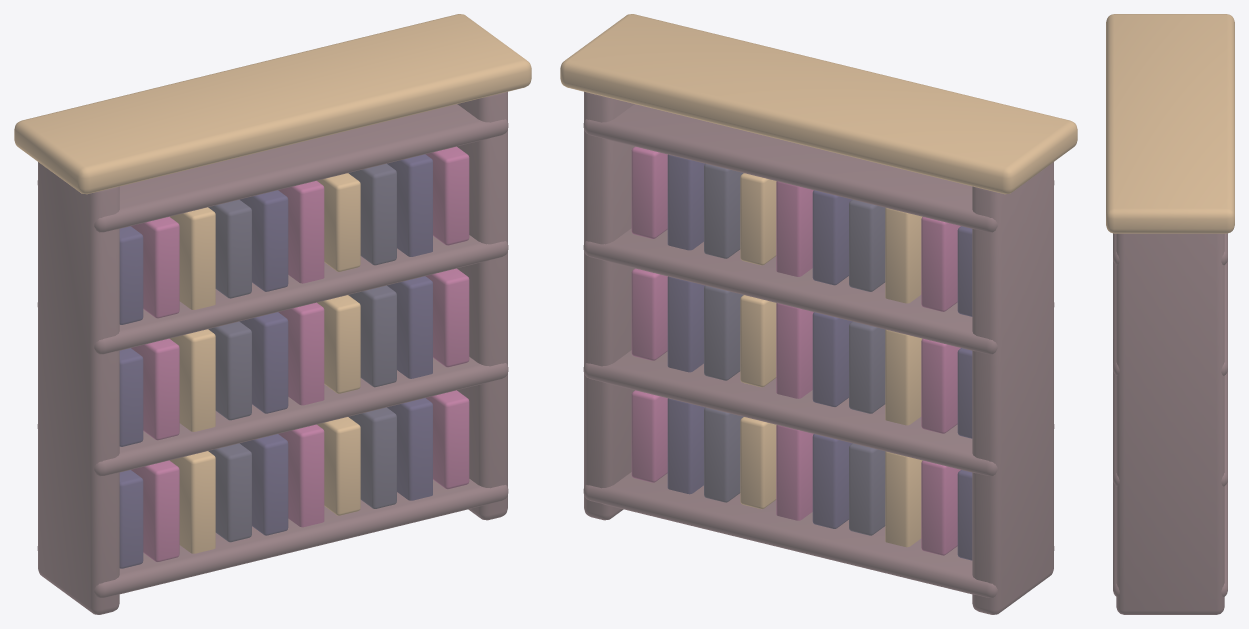
File: castle_detail_shelf_cursed.glb
3 renders of one model, left to right at view 1: azimuth 30°, elevation 25°; view 2: azimuth 150°, elevation 25°; view 3: azimuth 270°, elevation 25°, orthographic. The views are drawn at different scales.
Visible parts, largest first — view 1: castle_detail_shelf_cursed_surface; view 2: castle_detail_shelf_cursed_surface; view 3: castle_detail_shelf_cursed_surface.
Part boxes in pixels (x1,y1,x2,y2): castle_detail_shelf_cursed_surface: (14, 14, 531, 614); castle_detail_shelf_cursed_surface: (560, 14, 1077, 614); castle_detail_shelf_cursed_surface: (1106, 14, 1234, 614).
Size of the model in its own units: 3.5 by 3.37 by 0.95.
